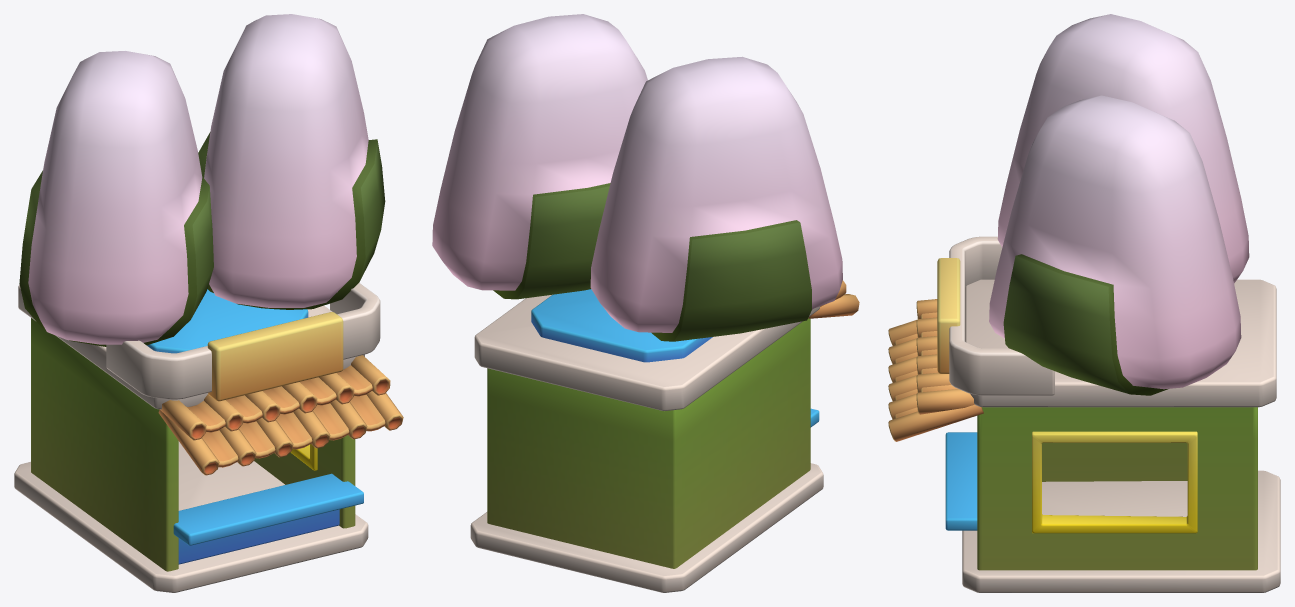
The model's file is lpb_store_riceball.fbx.
The picture shows the model from 3 angles, left to right: view 1: azimuth 30°, elevation 25°; view 2: azimuth 150°, elevation 25°; view 3: azimuth 270°, elevation 25°; orthographic projection. The views are drawn at different scales.
Parts seen in each view (by area): view 1: Store.011; view 2: Store.011; view 3: Store.011.
Boxes of the visible parts, left/top/right/bottom form: Store.011: left=14, top=14, right=403, bottom=592; Store.011: left=432, top=14, right=859, bottom=592; Store.011: left=888, top=14, right=1280, bottom=592.
Bounding box in the file's own units: 545 × 669 × 497.
